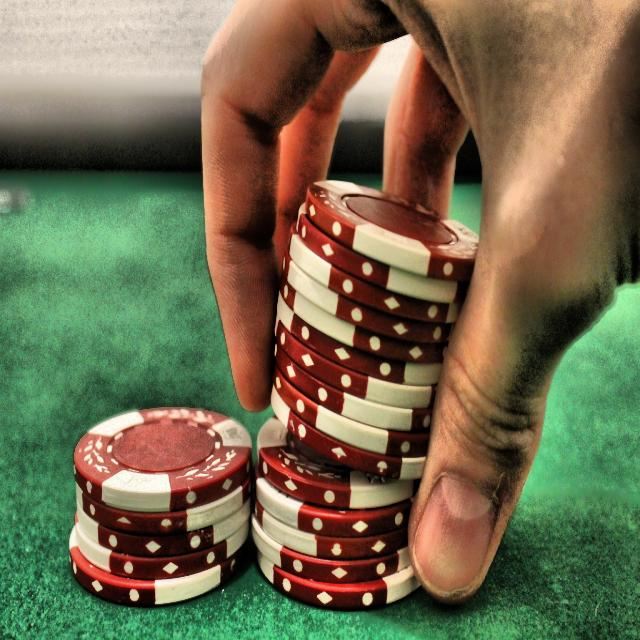Chip: (245, 147, 487, 604), (62, 390, 257, 608)
